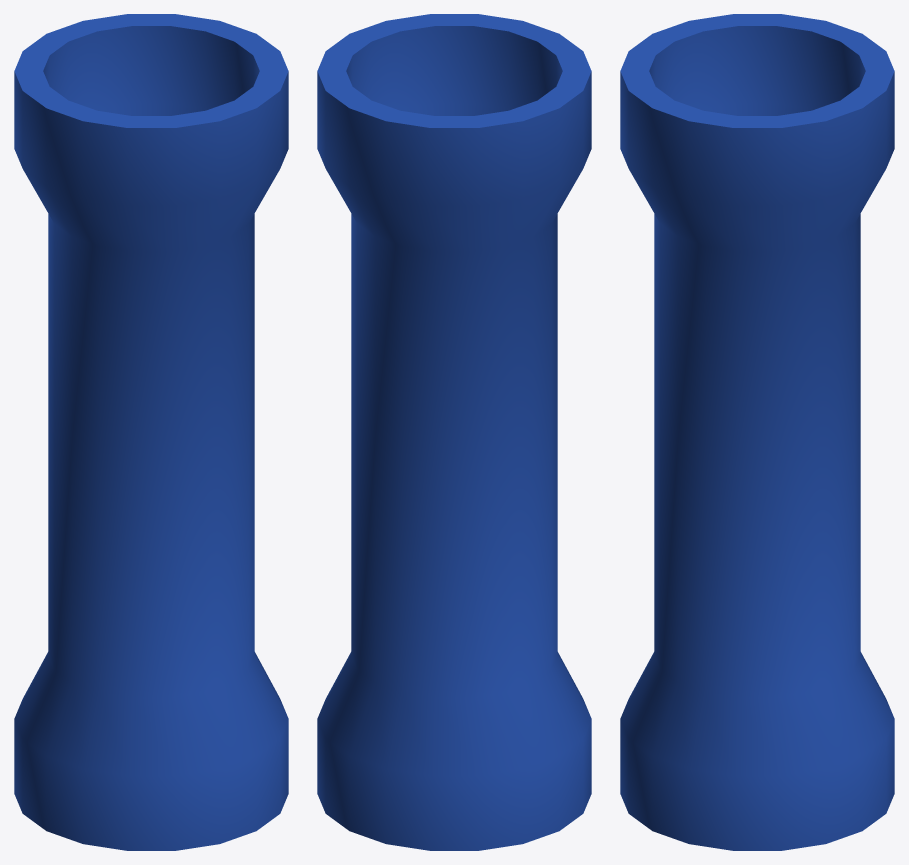
The model's file is StraightPipe.fbx.
3 renders of one model, left to right at view 1: azimuth 30°, elevation 25°; view 2: azimuth 150°, elevation 25°; view 3: azimuth 270°, elevation 25°, orthographic.
Visible parts, largest first — view 1: Tube001; view 2: Tube001; view 3: Tube001.
Boxes of the visible parts, x1=… form: Tube001: x1=14, y1=14, x2=288, y2=850; Tube001: x1=317, y1=14, x2=591, y2=850; Tube001: x1=620, y1=14, x2=894, y2=850.
Size of the model in its own units: 23.7 by 70.01 by 24.07.
